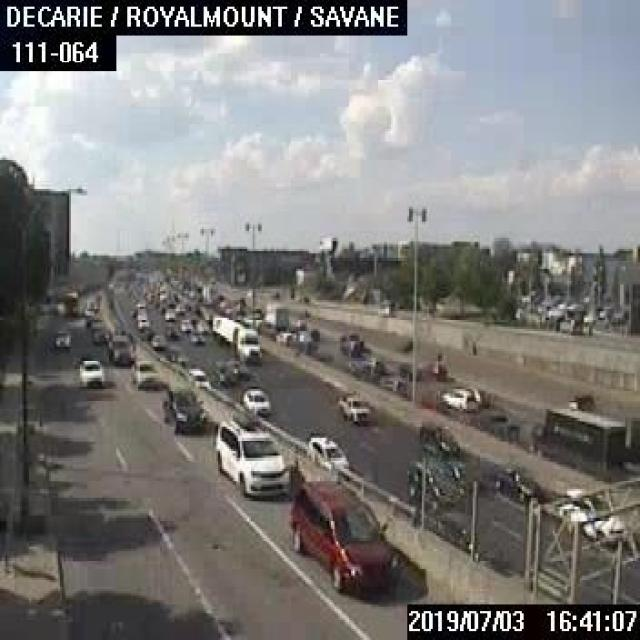vehicle: (288, 477, 400, 596), (524, 398, 627, 478), (214, 412, 288, 497), (555, 487, 631, 549), (210, 314, 262, 364), (408, 457, 459, 505), (161, 387, 204, 433), (495, 464, 540, 505), (306, 429, 349, 468), (417, 420, 462, 454), (335, 389, 373, 423), (474, 409, 518, 436), (436, 385, 480, 411), (75, 353, 102, 389), (105, 332, 135, 362), (238, 385, 271, 411), (133, 361, 161, 386), (337, 331, 362, 355), (265, 302, 287, 328), (376, 373, 405, 392), (419, 359, 447, 378), (87, 322, 111, 342), (213, 360, 232, 383), (227, 357, 248, 377), (186, 367, 208, 386), (398, 360, 420, 378), (53, 329, 71, 349), (192, 315, 208, 332), (188, 328, 204, 344), (164, 347, 187, 358), (150, 332, 164, 348), (272, 330, 290, 342), (288, 318, 304, 329), (178, 318, 192, 330), (163, 306, 175, 320), (136, 316, 148, 328), (173, 301, 184, 312)
